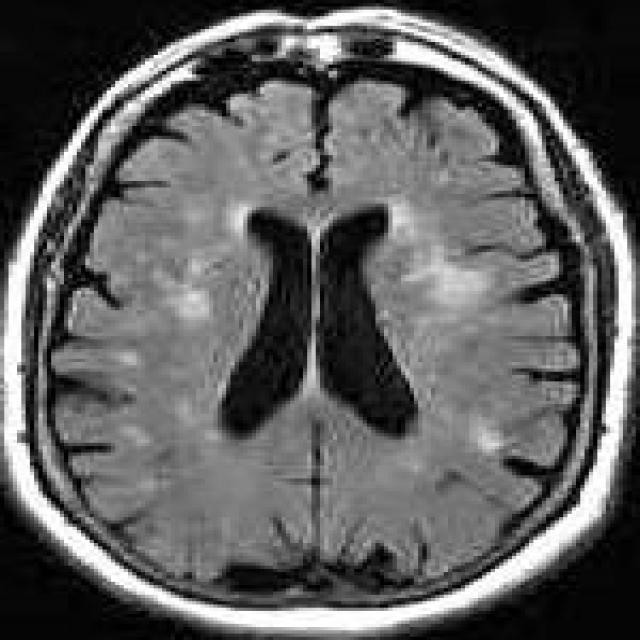notumor: (13, 6, 627, 621)
